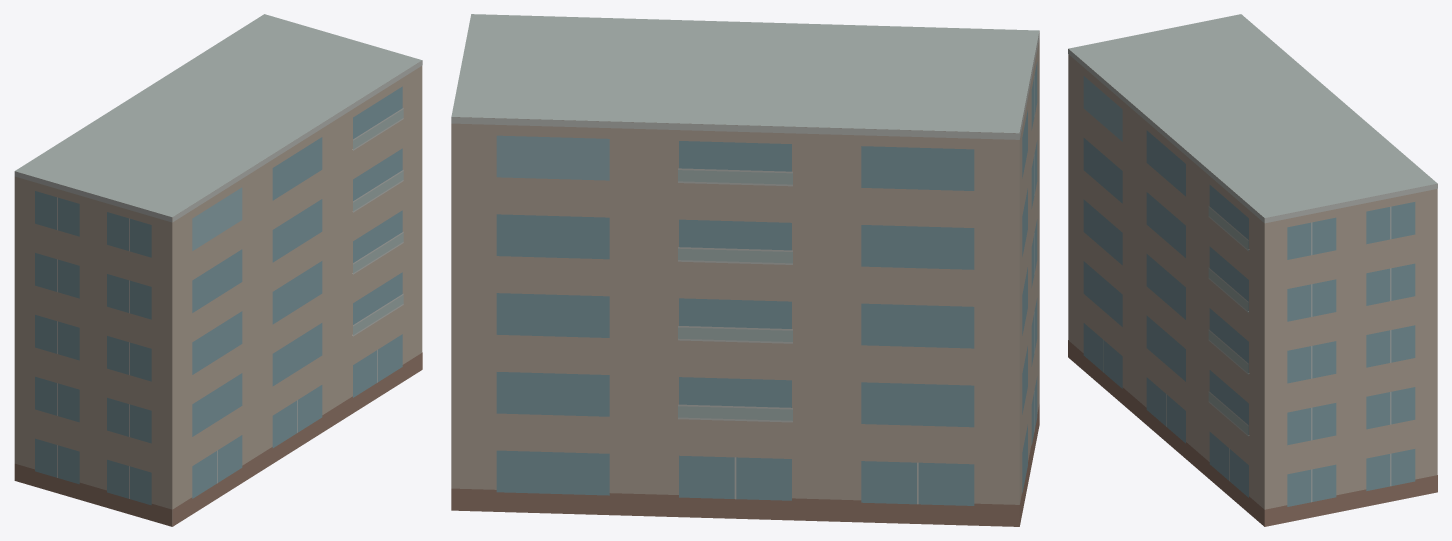
File: survey-upis-32906210.glb
3 renders of one model, left to right at view 1: azimuth 30°, elevation 25°; view 2: azimuth 150°, elevation 25°; view 3: azimuth 270°, elevation 25°, orthographic. The views are drawn at different scales.
Visible parts, largest first — view 1: survey-upis-32906210.tmp; view 2: survey-upis-32906210.tmp; view 3: survey-upis-32906210.tmp.
Part boxes in pixels (left/top/right/bottom): survey-upis-32906210.tmp: left=14, top=14, right=422, bottom=526; survey-upis-32906210.tmp: left=451, top=14, right=1039, bottom=526; survey-upis-32906210.tmp: left=1068, top=14, right=1437, bottom=526.
Bounding box in the file's own units: 20.36 × 14.35 × 15.58.
